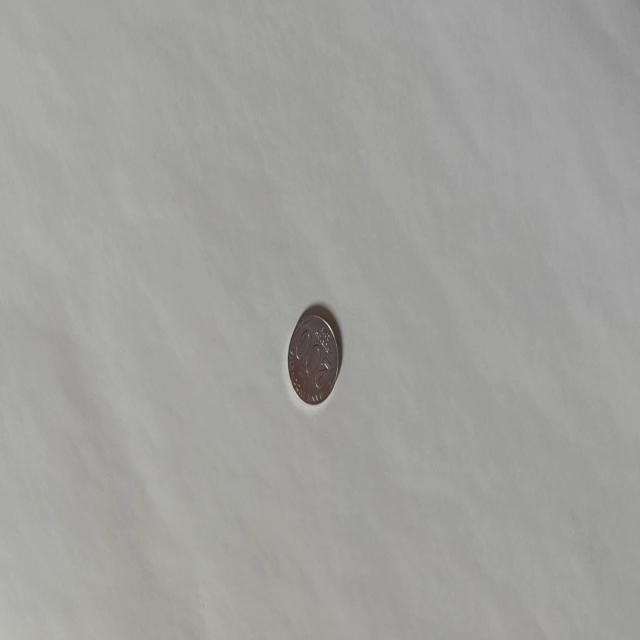dua ratus rupiah: (286, 310, 340, 406)
